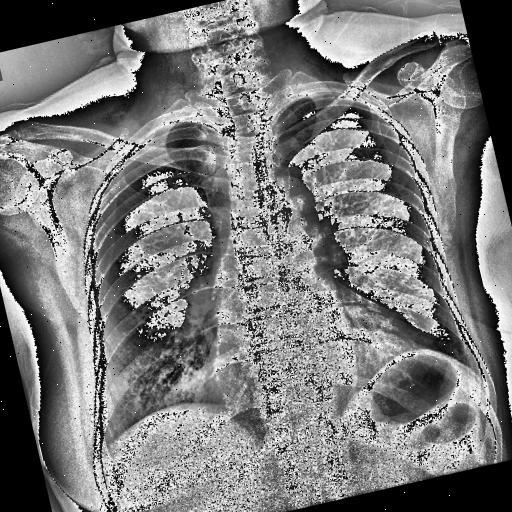0- Aortic enlargement: (246, 167, 324, 252)
11- Pleural thickening: (278, 86, 338, 108), (162, 117, 199, 133)
3- Cardiomegaly: (207, 299, 425, 415), (208, 310, 424, 414)
6- Infiltration: (122, 332, 214, 415)
7- Lung Opacity: (122, 332, 214, 415)
